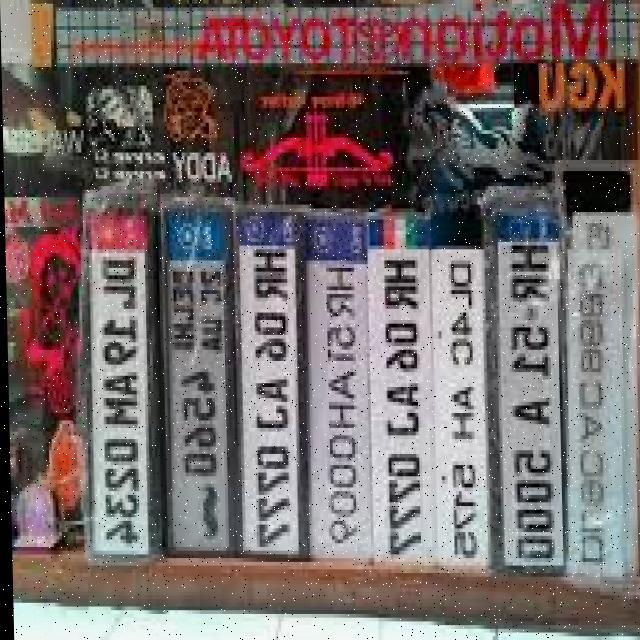plate: (158, 192, 241, 562), (73, 194, 154, 566), (300, 204, 376, 567), (496, 201, 567, 579), (234, 201, 303, 568), (371, 211, 433, 573), (427, 206, 488, 572), (559, 246, 622, 588)
